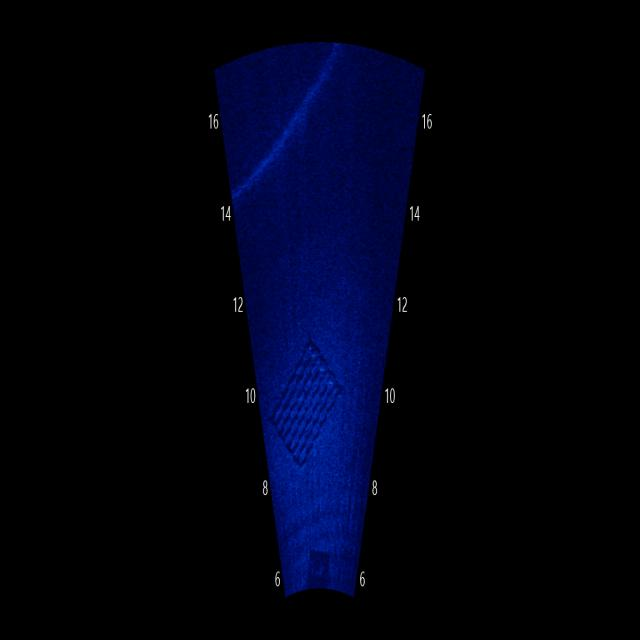square: (264, 331, 352, 476)
